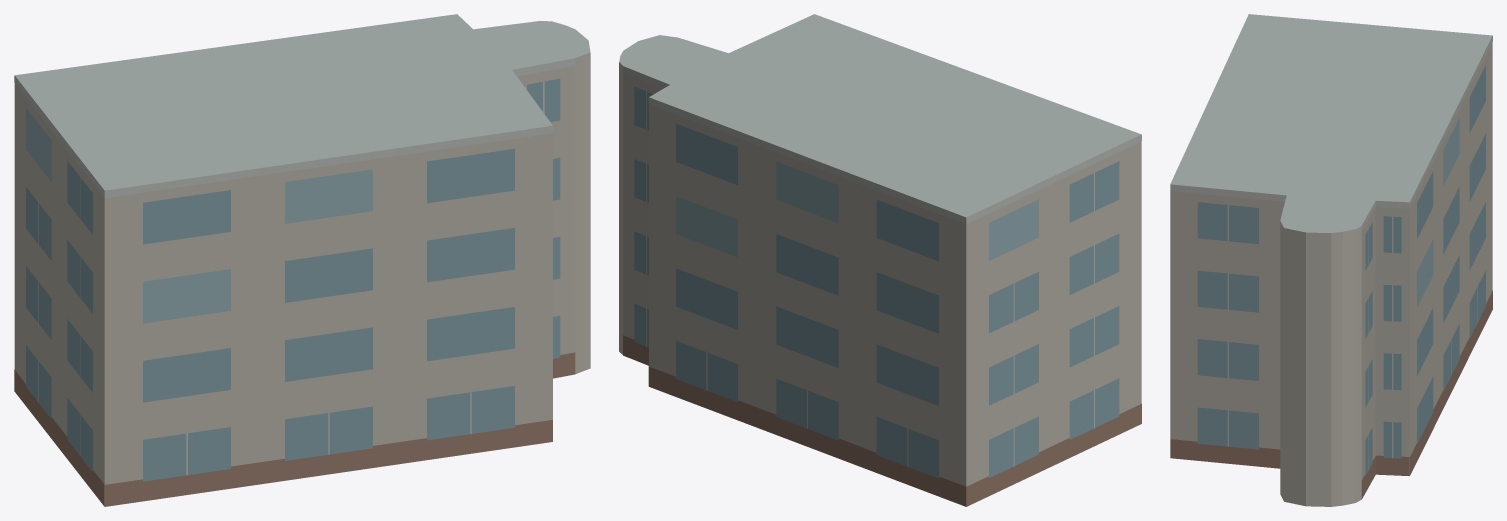
Rendered from survey-upis-32842377.glb.
The picture shows the model from 3 angles, left to right: view 1: azimuth 30°, elevation 25°; view 2: azimuth 150°, elevation 25°; view 3: azimuth 270°, elevation 25°; orthographic projection. The views are drawn at different scales.
Visible parts, largest first — view 1: survey-upis-32842377.tmp; view 2: survey-upis-32842377.tmp; view 3: survey-upis-32842377.tmp.
Boxes of the visible parts, x1,y1,x2,y2 form: survey-upis-32842377.tmp: (14,14,590,506); survey-upis-32842377.tmp: (619,14,1141,506); survey-upis-32842377.tmp: (1170,14,1492,506).
Bounding box in the file's own units: 17.72 × 10.32 × 11.03.
